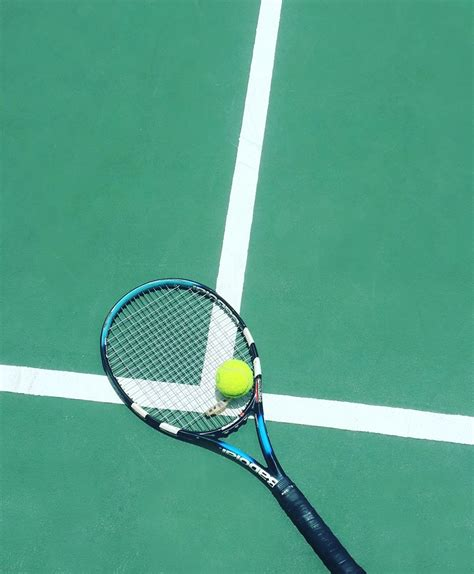tennis_ball: (215, 358, 254, 399)
